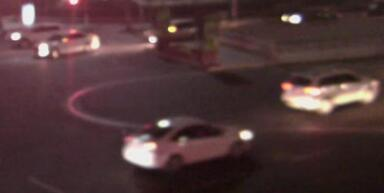car: (121, 116, 254, 173), (279, 70, 378, 114), (35, 30, 100, 58), (6, 24, 69, 50), (142, 21, 200, 43), (280, 8, 339, 26)
